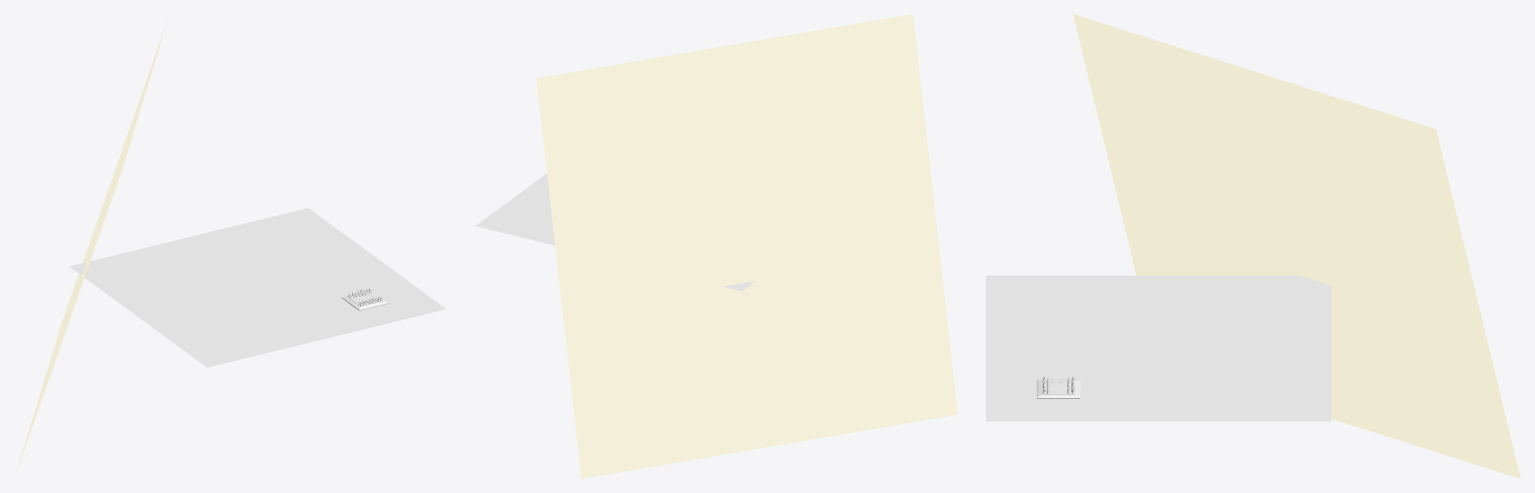
Rendered from Chessboard.glb.
The picture shows the model from 3 angles, left to right: view 1: azimuth 30°, elevation 25°; view 2: azimuth 150°, elevation 25°; view 3: azimuth 270°, elevation 25°; orthographic projection. The views are drawn at different scales.
Visible parts, largest first — view 1: Table, Light, Chess Board; view 2: Light, Table; view 3: Light, Table, Chess Board.
Part boxes in pixels (bbox=[...]): Table: bbox=[69, 208, 446, 367]; Light: bbox=[16, 18, 168, 473]; Chess Board: bbox=[341, 290, 389, 310]; Light: bbox=[536, 14, 957, 478]; Table: bbox=[475, 174, 755, 290]; Light: bbox=[1073, 14, 1520, 478]; Table: bbox=[986, 275, 1331, 421]; Chess Board: bbox=[1036, 379, 1080, 398].
Bounding box in the file's own units: 216 × 181 × 221.
